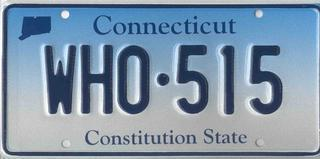placa de veiculo: (6, 1, 310, 151)
